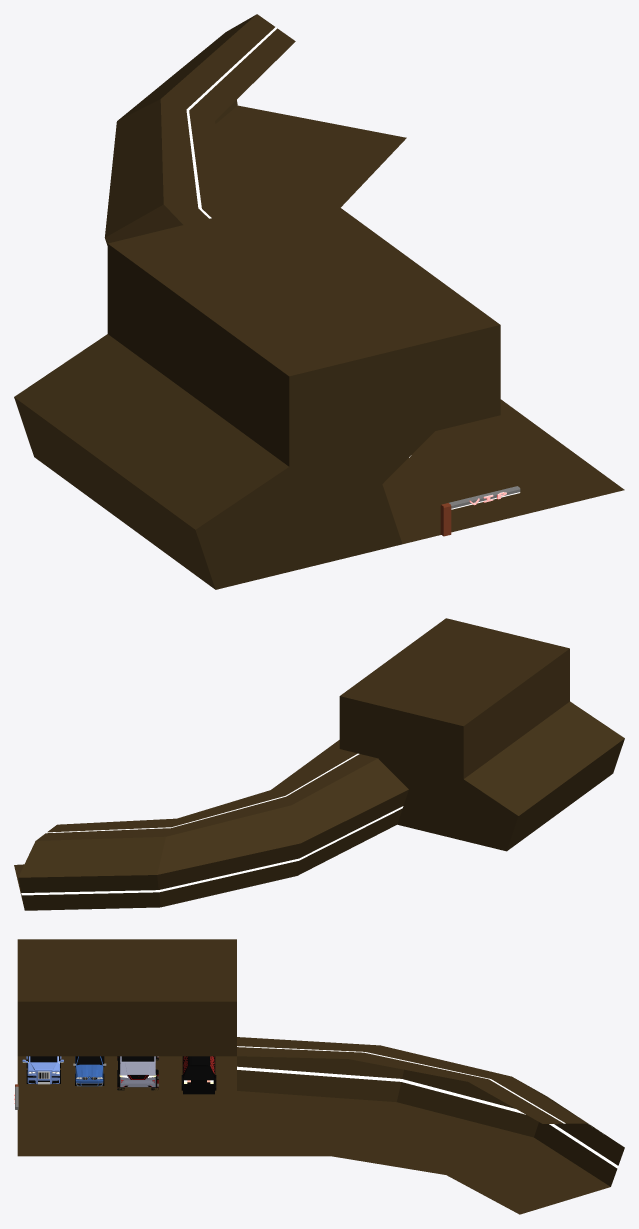
File: VIP area thing.glb
3 views of the same model, one above another, from view 1: azimuth 30°, elevation 25°; view 2: azimuth 150°, elevation 25°; view 3: azimuth 270°, elevation 25° (orthographic). The views are drawn at different scales.
Visible parts, largest first — view 1: tunnel; view 2: tunnel; view 3: tunnel.
Boxes of the visible parts, x1,y1,x2,y2 form: tunnel: (14,14,624,589); tunnel: (14,618,624,910); tunnel: (17,939,624,1214).
Size of the model in its own units: 81.23 by 24.22 by 113.
46 materials, 2 textured.
